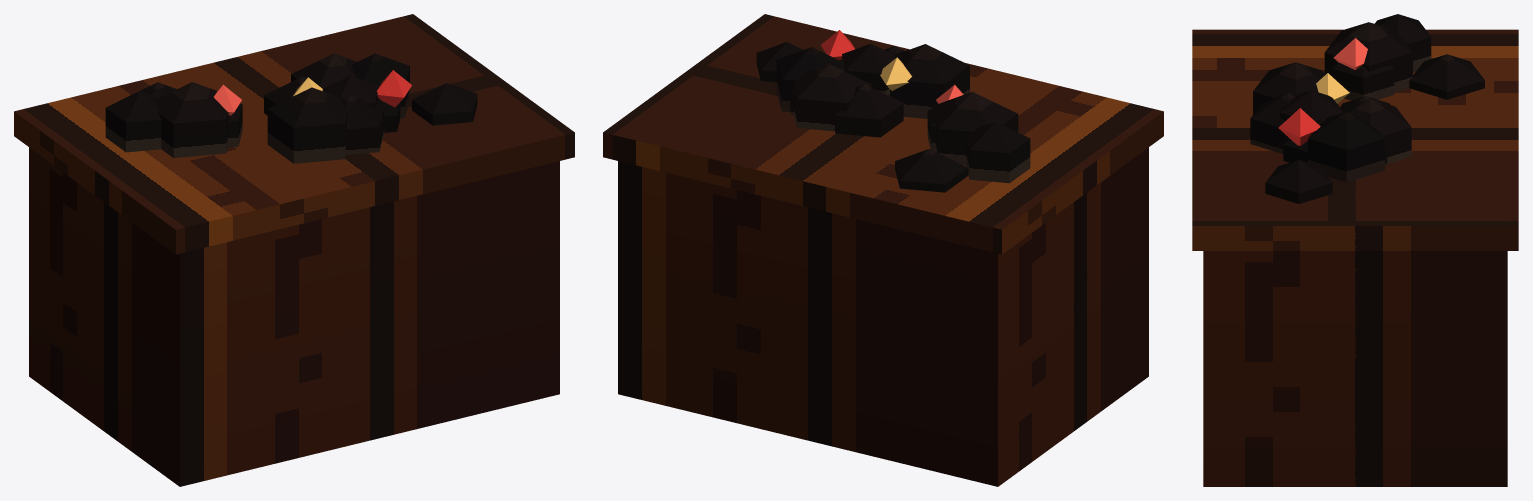
The model's file is coal_bin.glb.
3 views of the same model, side by side, from view 1: azimuth 30°, elevation 25°; view 2: azimuth 150°, elevation 25°; view 3: azimuth 270°, elevation 25° (orthographic).
Parts seen in each view (by area): view 1: coal_bin; view 2: coal_bin; view 3: coal_bin.
Boxes of the visible parts, <box> form: coal_bin: <box>14,14,574,486</box>; coal_bin: <box>603,14,1163,486</box>; coal_bin: <box>1192,14,1518,486</box>.
Size of the model in its own units: 0.84 by 0.6491 by 0.59.
Materials: 3 (2 with a texture image).
